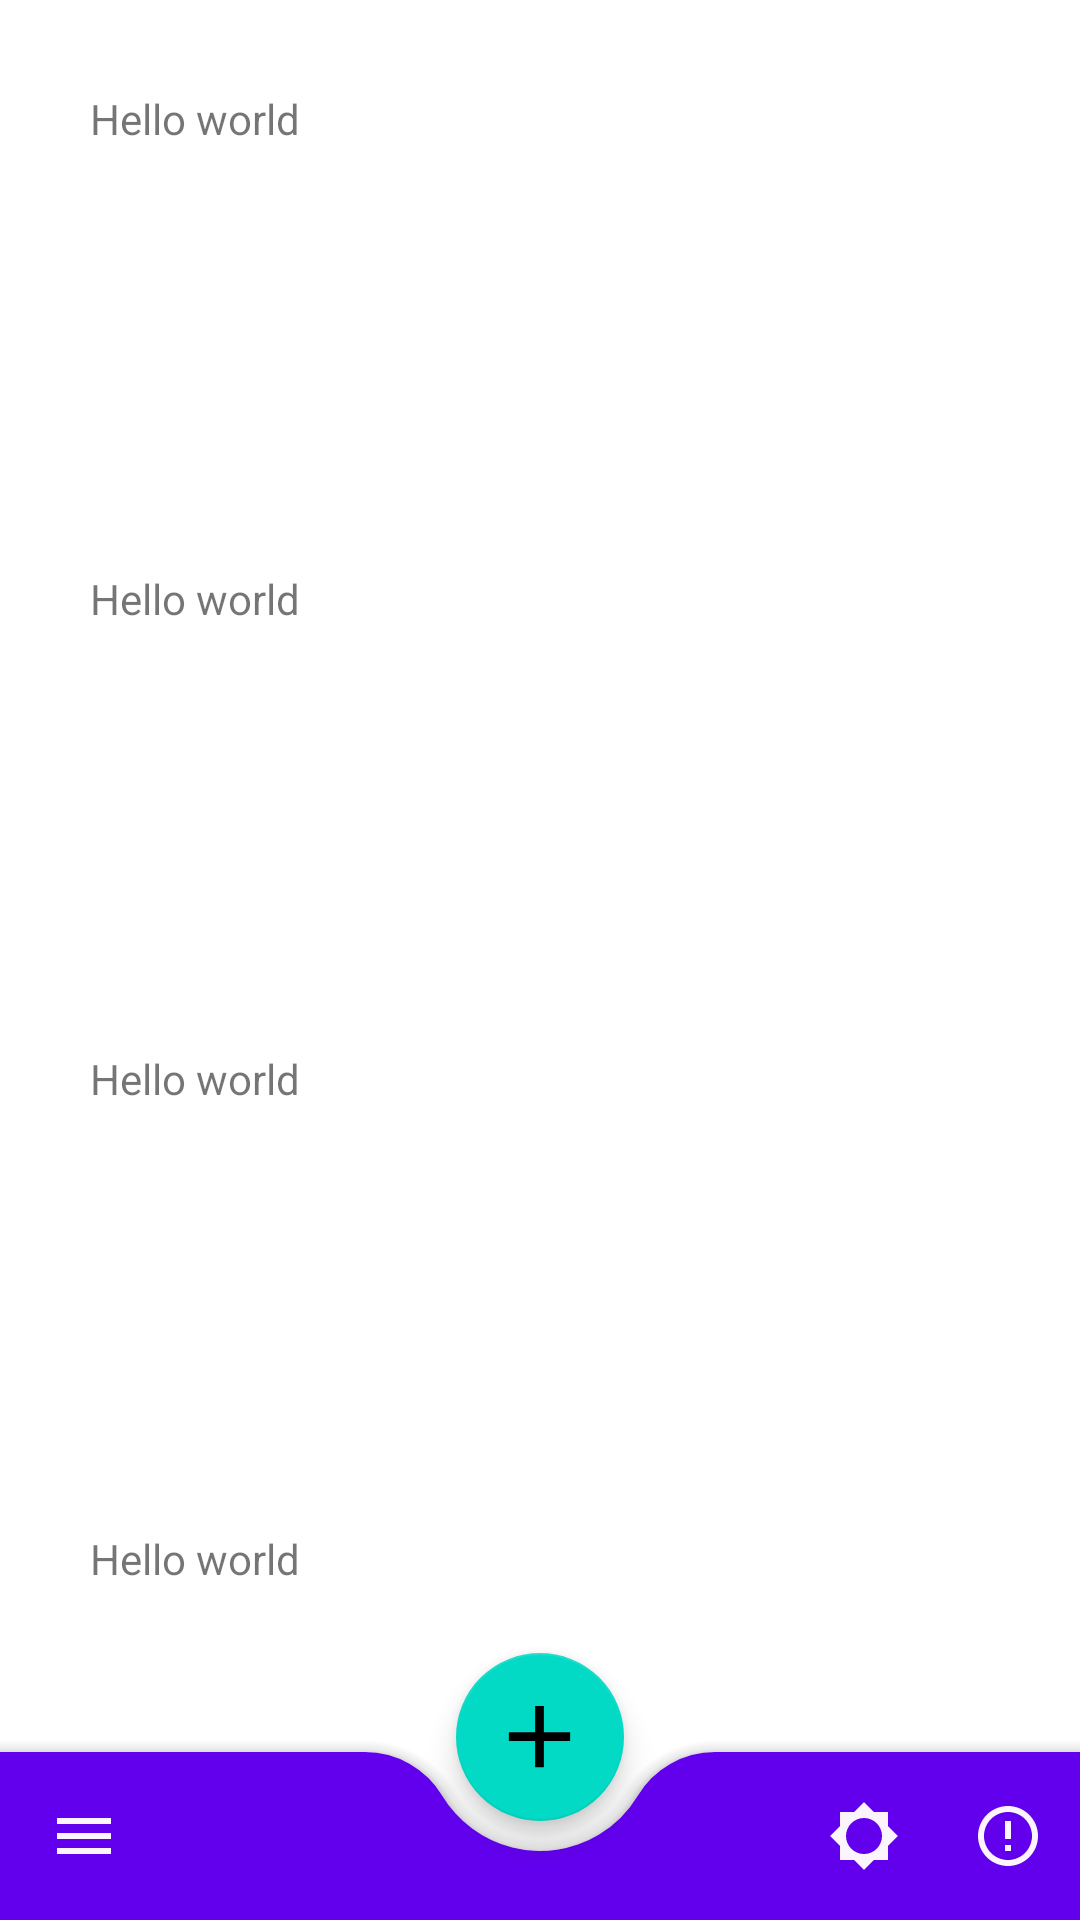

Icons on this 1080*1920 Android screen, each with the point to tap as (x=x, y=y):
add: (x=540, y=1752)
